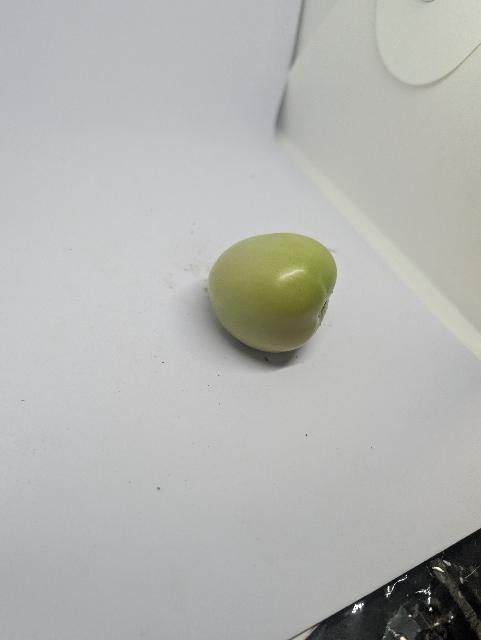green: (206, 231, 342, 357)
